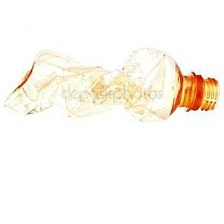bottle: (1, 40, 223, 127)
